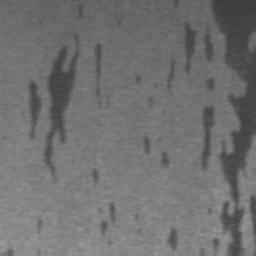Red iron sheet: (166, 0, 256, 256), (29, 4, 102, 178), (143, 134, 169, 166), (101, 205, 115, 232), (168, 229, 177, 250), (92, 170, 99, 184), (0, 250, 13, 256), (37, 220, 42, 233), (173, 0, 180, 8), (134, 74, 141, 82)
